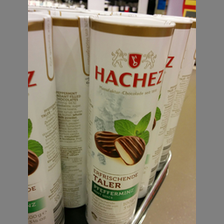chocolate: (84, 18, 177, 224)
